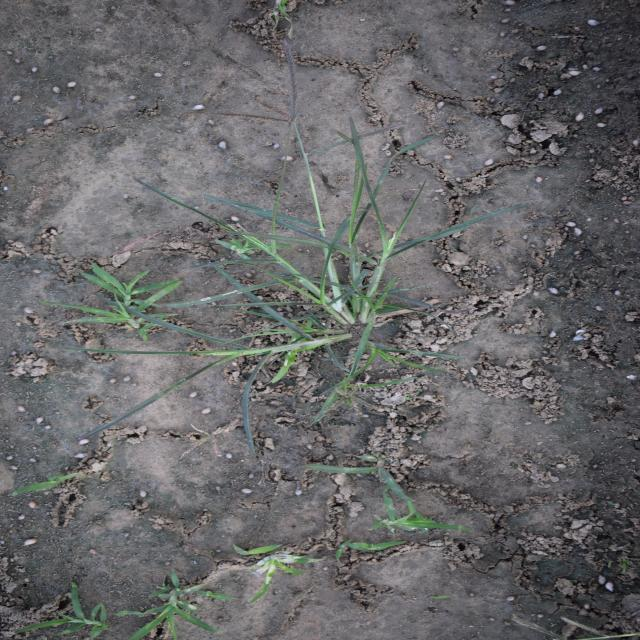Goosegrass: (46, 37, 538, 470), (114, 571, 232, 639), (8, 581, 122, 639), (360, 493, 471, 538)
